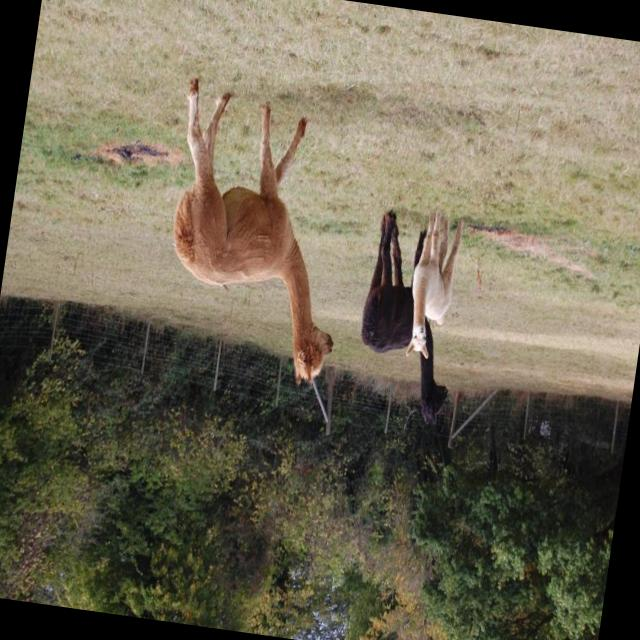alpaca: (150, 84, 367, 389), (348, 210, 476, 425), (404, 215, 467, 365)
